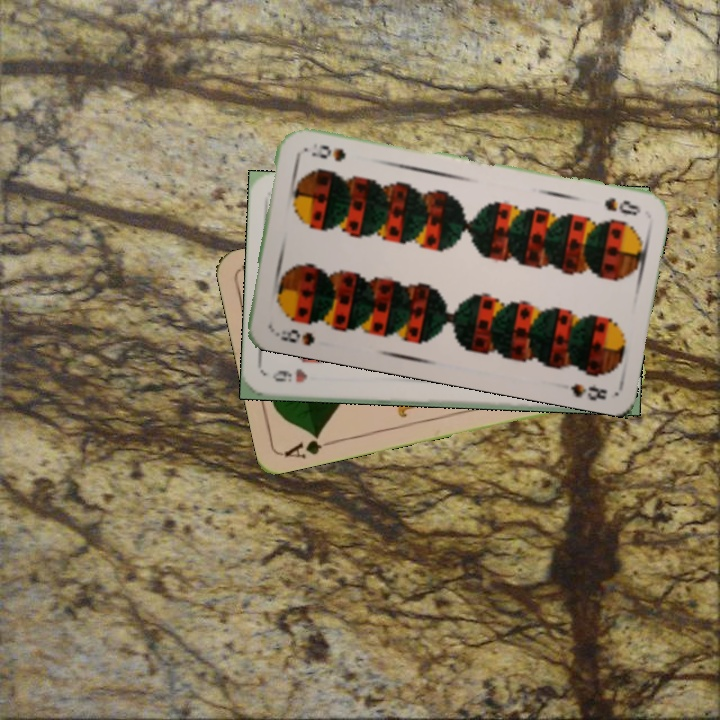GA: (280, 429, 339, 461)
H9: (268, 366, 310, 385)
S8: (267, 318, 317, 349), (600, 194, 643, 219)
